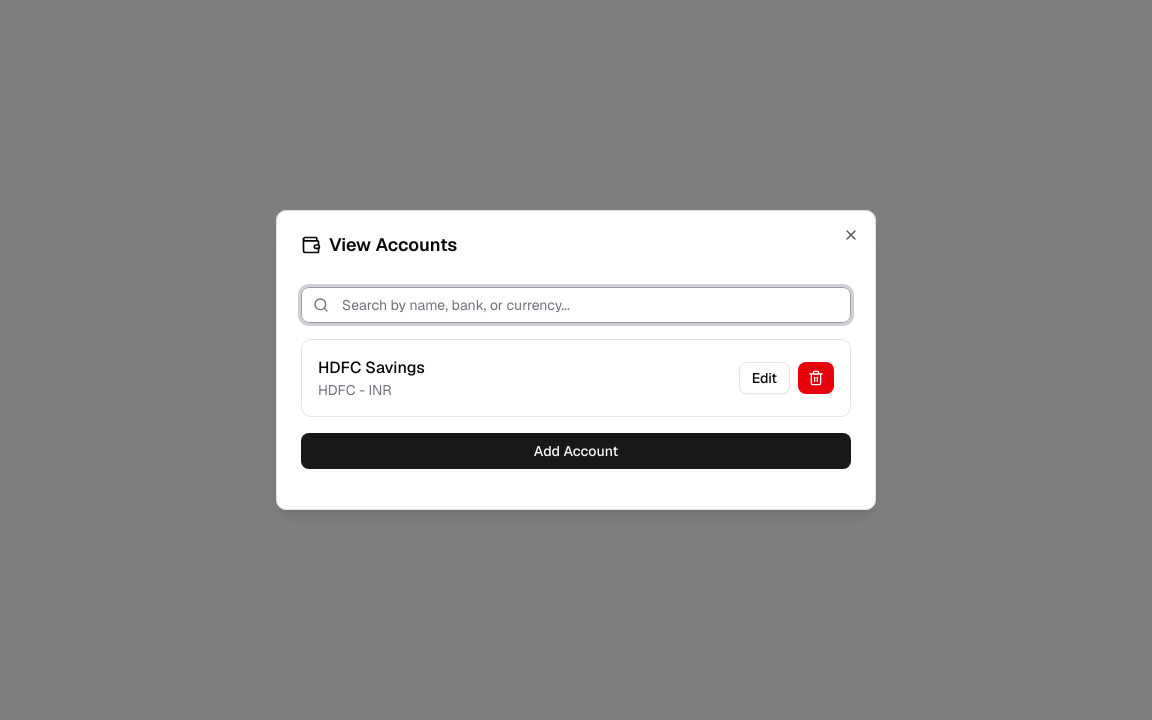
it: ViewAccountsModal › closes the delete confirmation without deleting
Expected: the heading "HDFC Savings" is shown, [318, 356, 425, 380]
Click the button named "Delete" in the row of "HDFC Savings": click(816, 378) [798, 362, 834, 394]
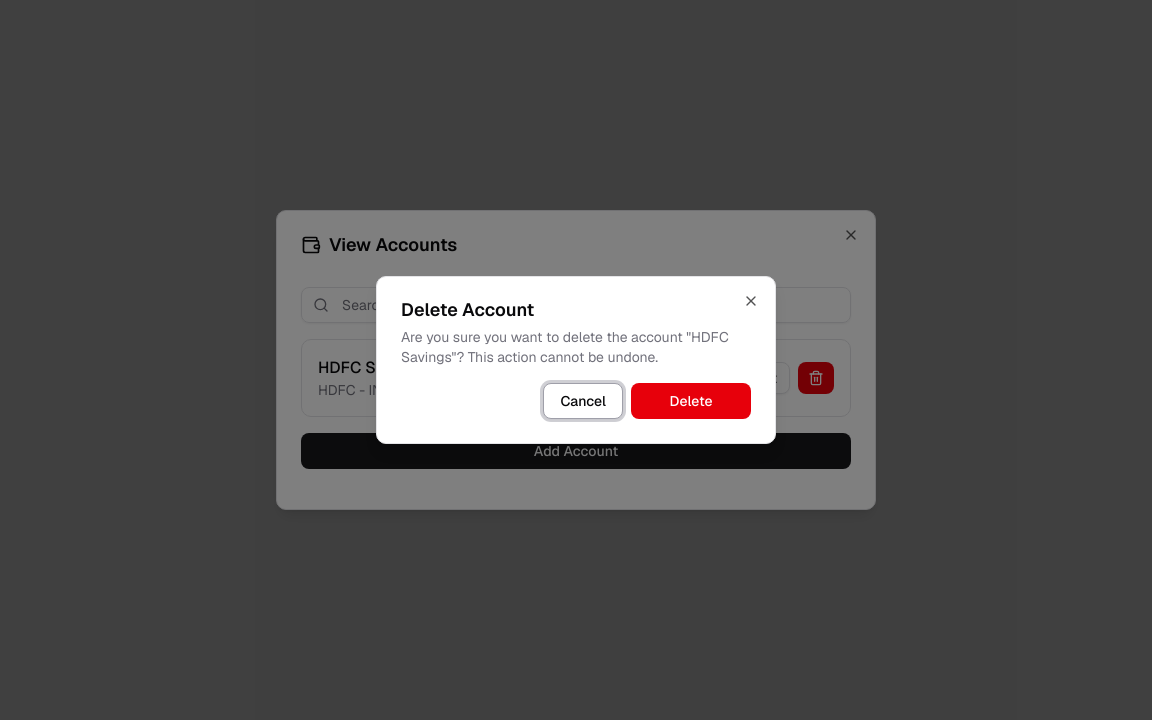
Click the button "Cancel": click(583, 401) [543, 383, 623, 419]
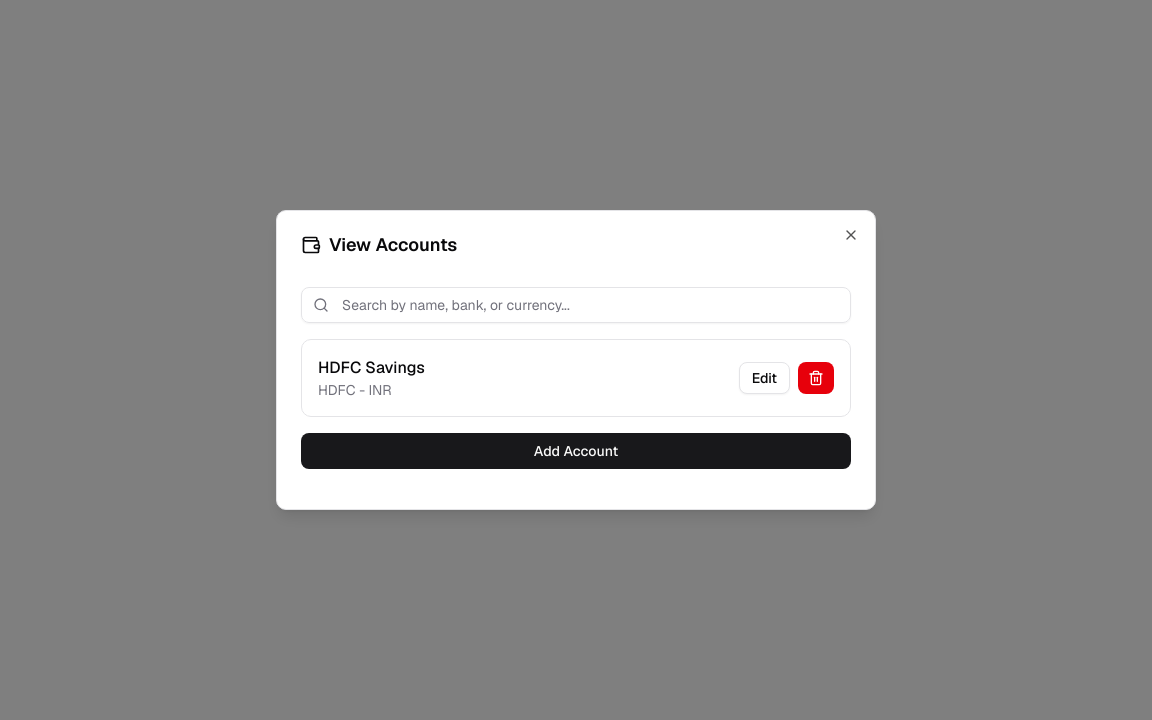
Expected: the heading "Delete Account" is gone
